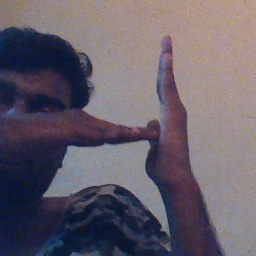Z: (97, 33, 196, 187)
